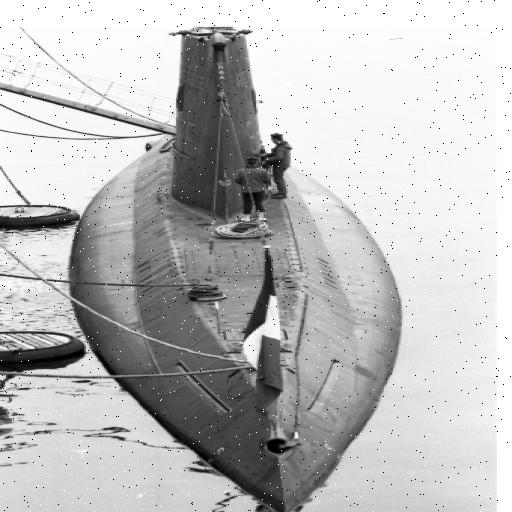submarine: (64, 16, 406, 512)
